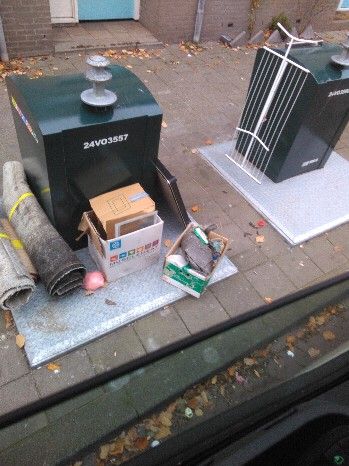Container: (18, 70, 155, 192), (263, 32, 338, 188)
Papier: (86, 198, 165, 279), (169, 225, 226, 301)
Rest: (1, 190, 74, 302), (242, 54, 286, 195), (160, 174, 207, 231)
